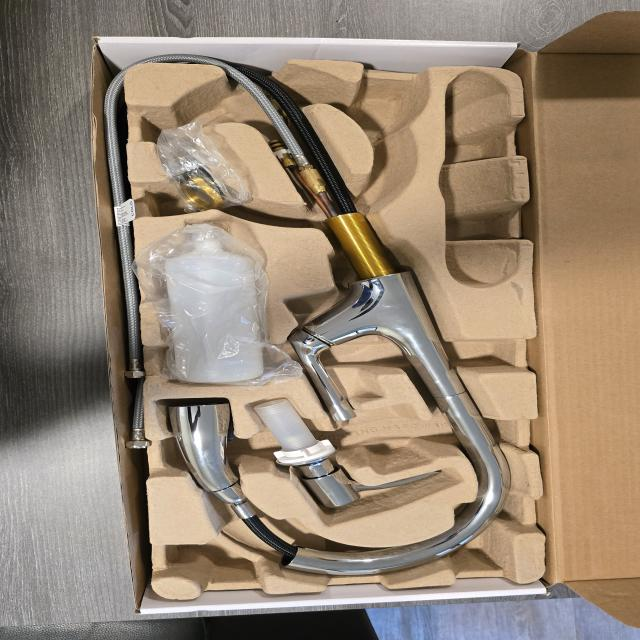1: (166, 60, 511, 577)
2: (253, 396, 443, 509)
3: (159, 225, 267, 384)
4m: (439, 73, 518, 288)
5m: (352, 83, 424, 137)
6: (159, 117, 256, 210)
7m: (141, 87, 229, 150)
